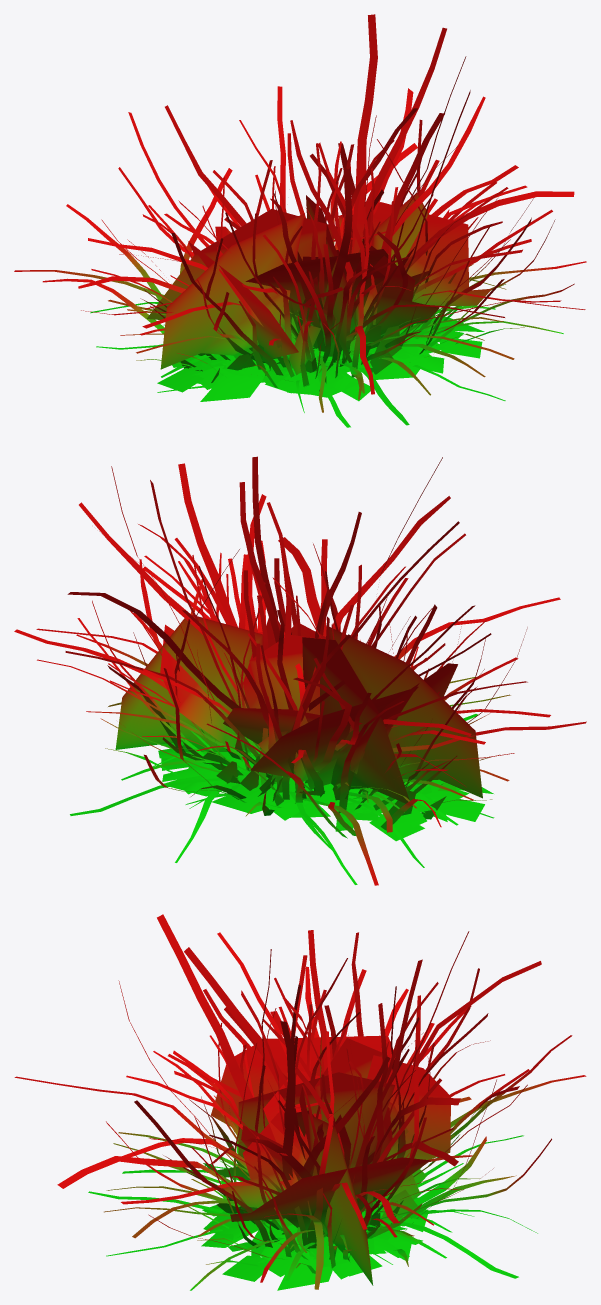
Rendered from Wild Grass_LOD3_Var1_vczndjqja.fbx.
3 views of the same model, one above another, from view 1: azimuth 30°, elevation 25°; view 2: azimuth 150°, elevation 25°; view 3: azimuth 270°, elevation 25° (orthographic). The views are drawn at different scales.
Visible parts, largest first — view 1: _xnq8_Var1_LOD3; view 2: _xnq8_Var1_LOD3; view 3: _xnq8_Var1_LOD3.
Part boxes in pixels (x1,y1,x2,y2): _xnq8_Var1_LOD3: [14, 14, 586, 427]; _xnq8_Var1_LOD3: [14, 456, 586, 885]; _xnq8_Var1_LOD3: [14, 914, 586, 1290].
Size of the model in its own units: 158 by 90.28 by 149.
